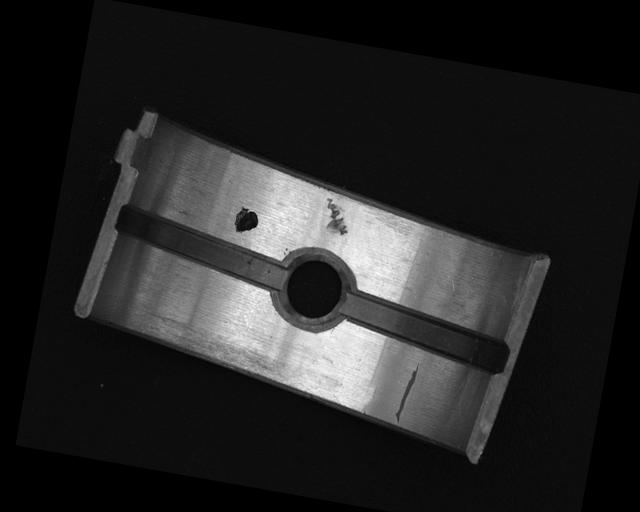blot: (232, 204, 261, 236)
bruise: (320, 196, 352, 236)
gap: (110, 204, 291, 293), (334, 289, 511, 375)
hole: (269, 245, 359, 335)
nick: (393, 359, 420, 426)
scratch: (135, 310, 303, 388)
